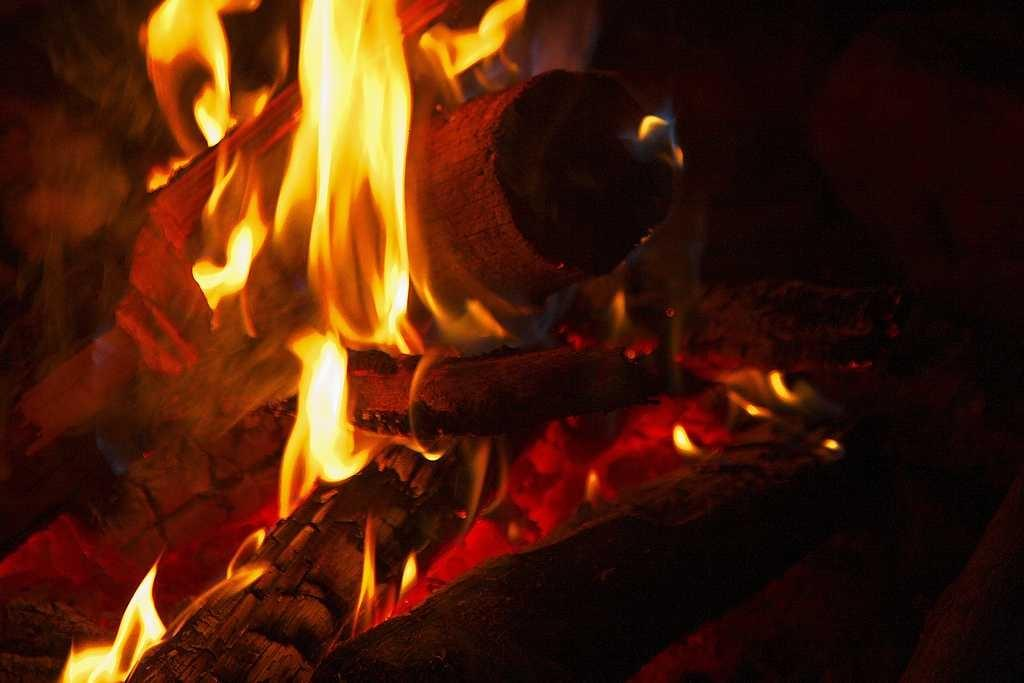fire: (136, 10, 424, 333), (413, 393, 718, 613)
